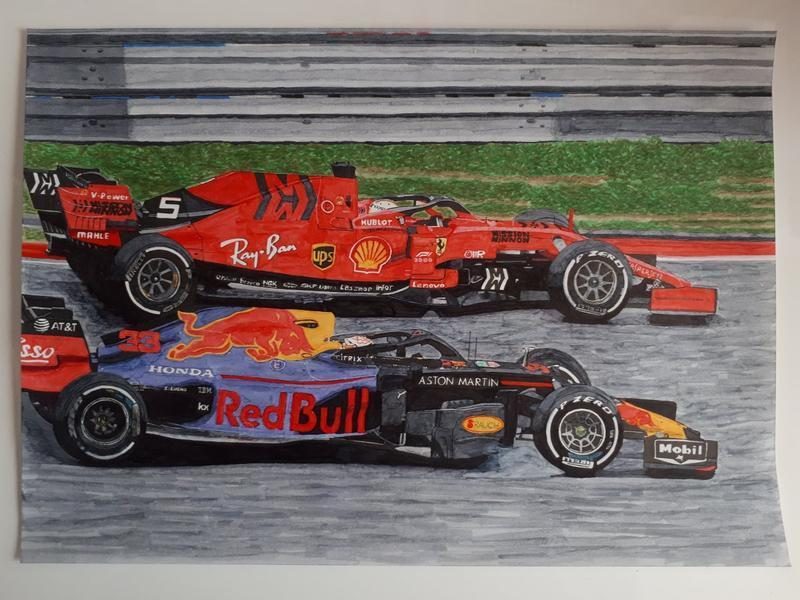f1: (24, 292, 721, 522), (32, 127, 756, 335)
